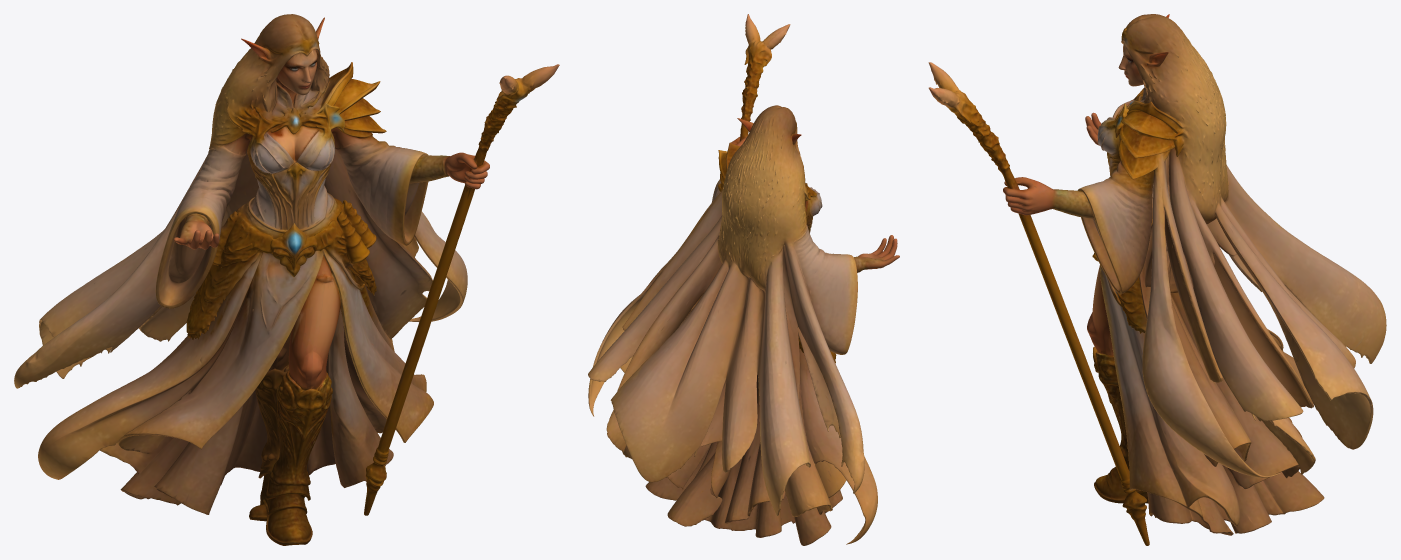
File: elf_cleric_full_female_01.glb
3 renders of one model, left to right at view 1: azimuth 30°, elevation 25°; view 2: azimuth 150°, elevation 25°; view 3: azimuth 270°, elevation 25°, orthographic. The views are drawn at different scales.
Parts seen in each view (by area): view 1: material; view 2: material; view 3: material.
Part boxes in pixels (x1,y1,x2,y2): material: (14, 14, 559, 545); material: (588, 14, 899, 545); material: (928, 14, 1386, 545).
Bounding box in the file's own units: 0.6604 × 0.8311 × 0.697.
1 material, 1 textured.
